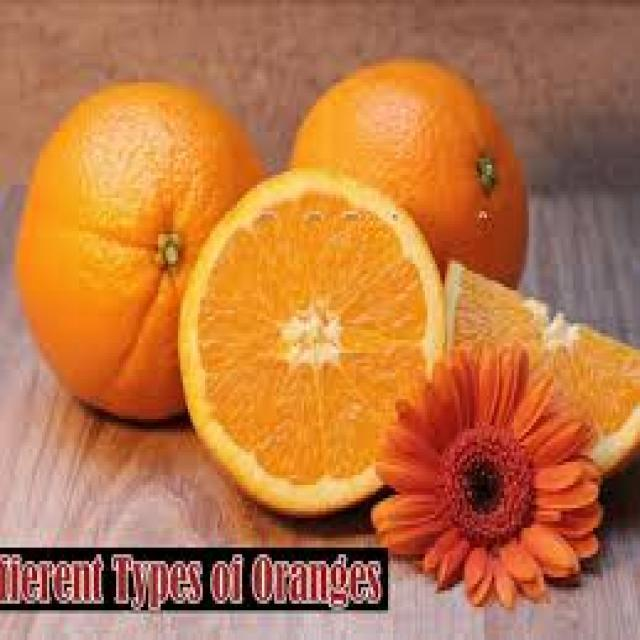Orange: (176, 168, 449, 520), (18, 83, 270, 438), (296, 60, 532, 338)
